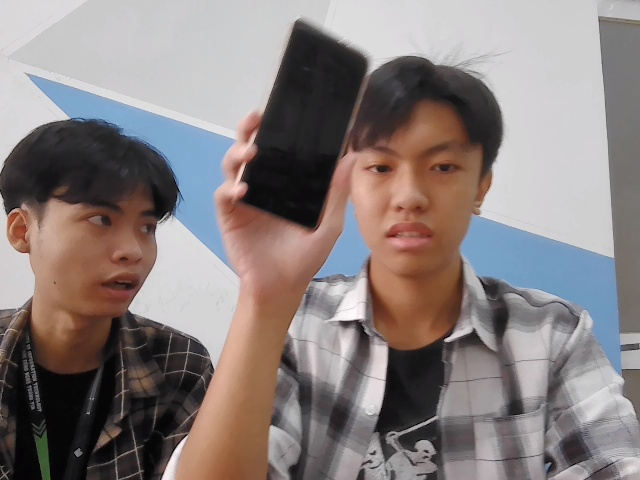human: (2, 117, 195, 333), (335, 57, 516, 283)
phone: (233, 15, 375, 234)
